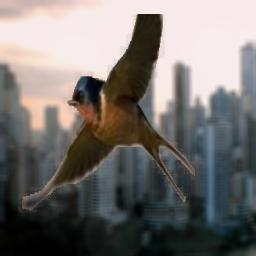Swallow: (18, 14, 195, 219)
